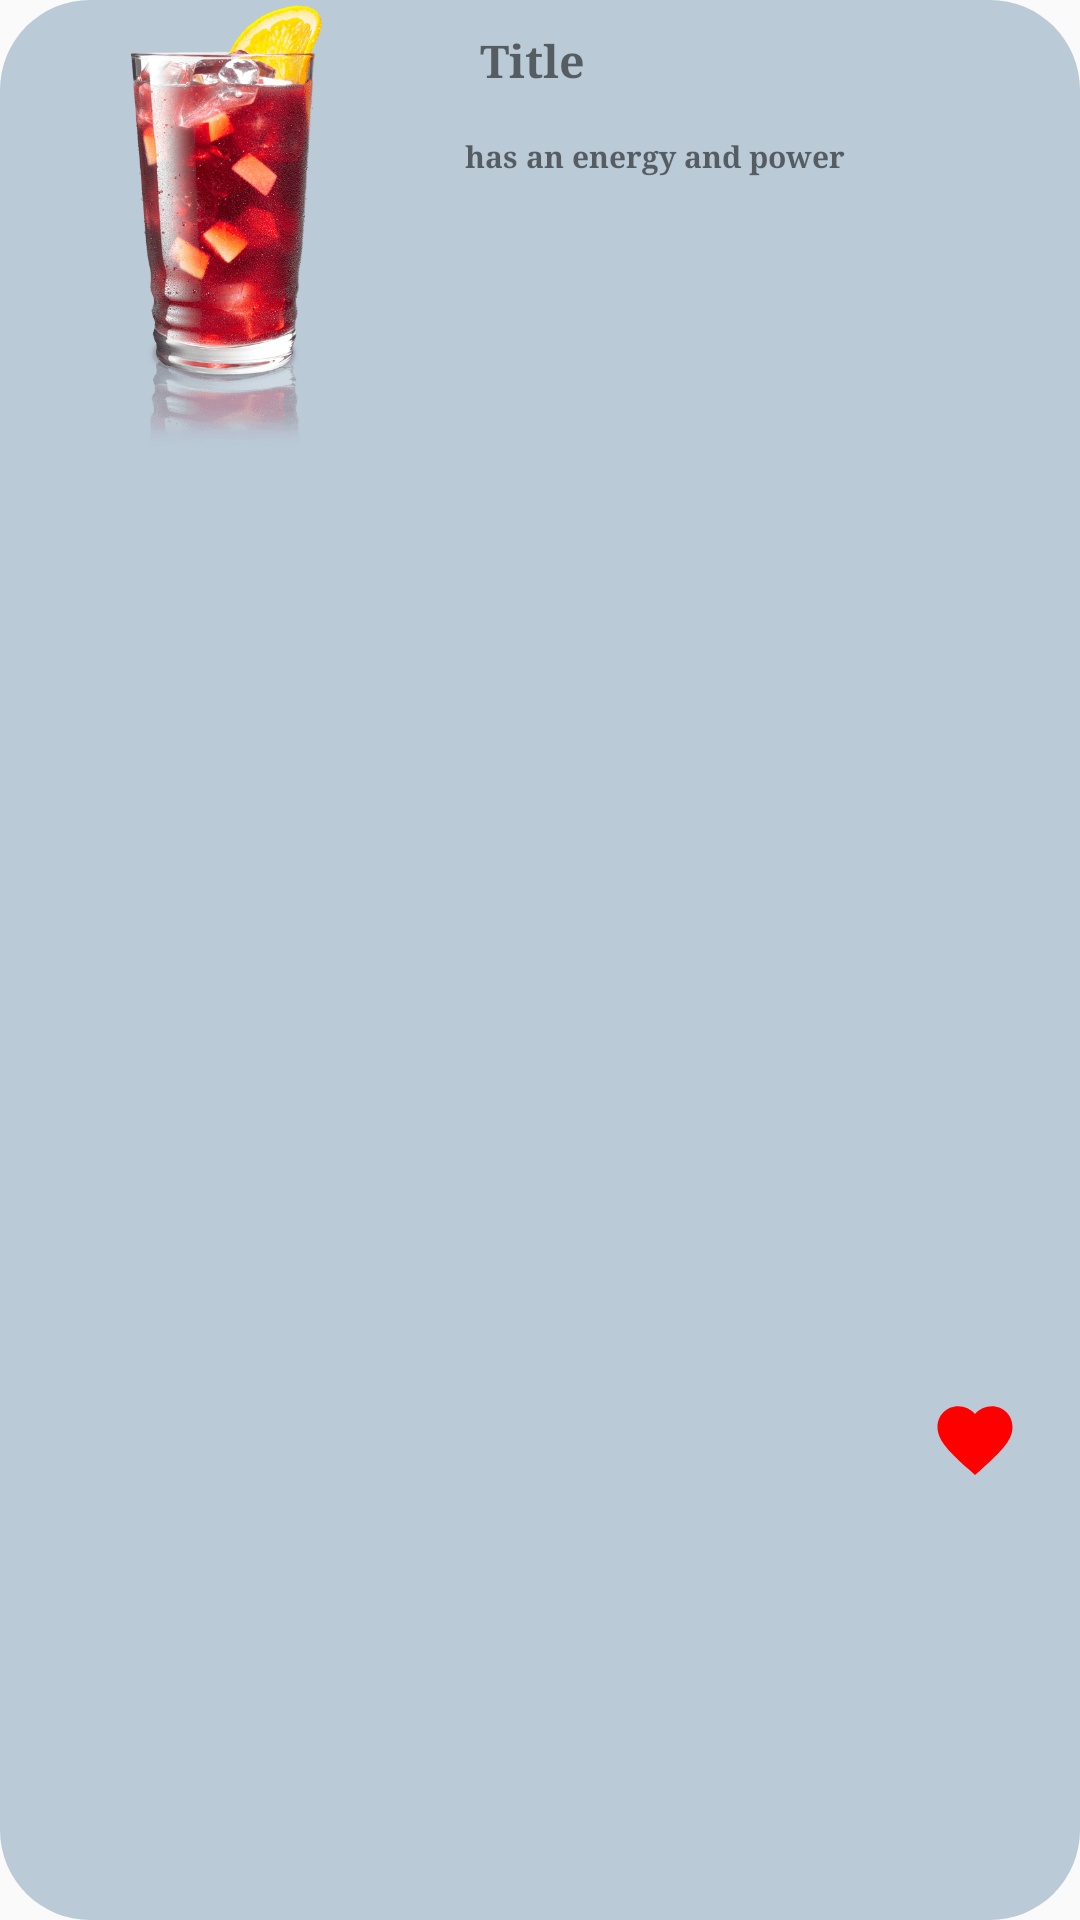

Where icons sit on this 1080*1920 app screen, as (x1, y1, x2, y2):
favorite: (937, 1406, 1013, 1475)
